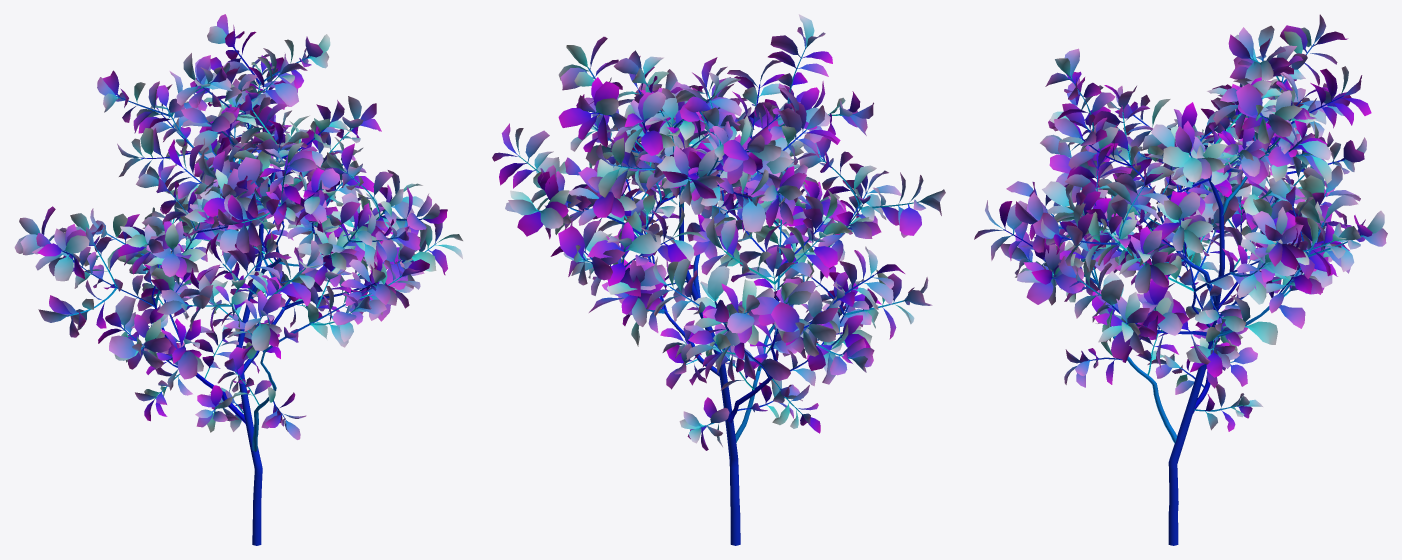
Rendered from European_Spindle_wk1ncbxja_Mid_wk1ncbxja_VarA_LOD0.fbx.
3 renders of one model, left to right at view 1: azimuth 30°, elevation 25°; view 2: azimuth 150°, elevation 25°; view 3: azimuth 270°, elevation 25°, orthographic. The views are drawn at different scales.
Parts seen in each view (by area): view 1: _dd34_VarA_LOD1; view 2: _dd34_VarA_LOD1; view 3: _dd34_VarA_LOD1.
Part boxes in pixels (<box>): _dd34_VarA_LOD1: <box>14,14,462,545</box>; _dd34_VarA_LOD1: <box>492,14,945,545</box>; _dd34_VarA_LOD1: <box>974,14,1387,545</box>.
Size of the model in its own units: 147 by 175 by 129.
